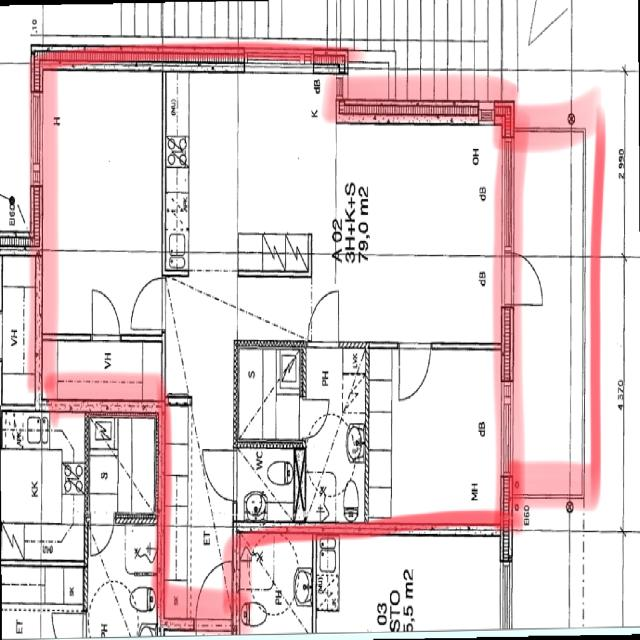door: (303, 282, 346, 351), (84, 281, 129, 346), (126, 272, 166, 340), (200, 440, 240, 506), (507, 252, 550, 313), (395, 339, 434, 406), (197, 559, 230, 602), (87, 520, 116, 558)
window: (496, 124, 520, 253), (497, 358, 519, 478), (27, 82, 47, 186), (497, 544, 516, 631), (431, 334, 491, 360)
zone: (190, 69, 338, 281), (37, 68, 165, 286), (367, 345, 508, 526), (64, 338, 164, 504), (166, 70, 238, 271), (0, 422, 88, 565), (299, 341, 369, 520), (41, 338, 166, 417), (84, 519, 158, 632), (91, 410, 161, 519), (239, 531, 315, 631), (0, 247, 43, 412), (234, 343, 304, 442), (0, 69, 38, 240), (1, 568, 86, 638), (235, 442, 303, 526), (0, 406, 46, 451)
